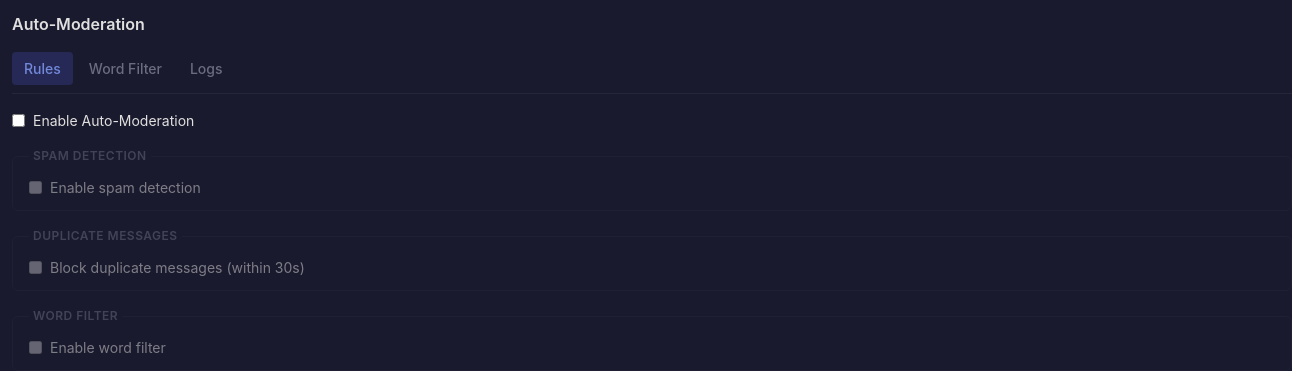
it: AutomodSettings › switches to Logs tab and shows log entries
Expected: the heading "Auto-Moderation" is shown, [12,14,145,34]
What coordinates should you click on to do the following:
click the button "Logs"
I would click on:
 (206, 68)
Its box is [178,52,234,85].
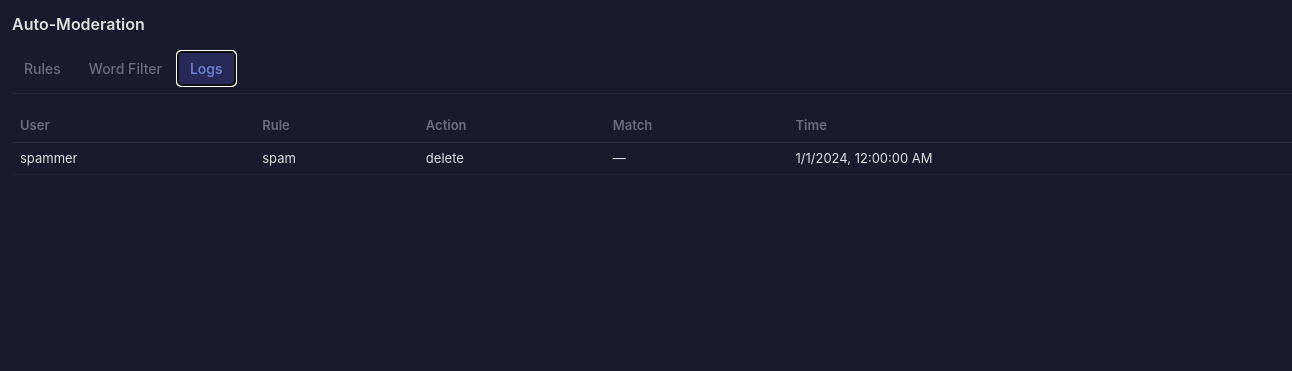
Expected: the text "spammer" is shown, [12,142,254,174]
